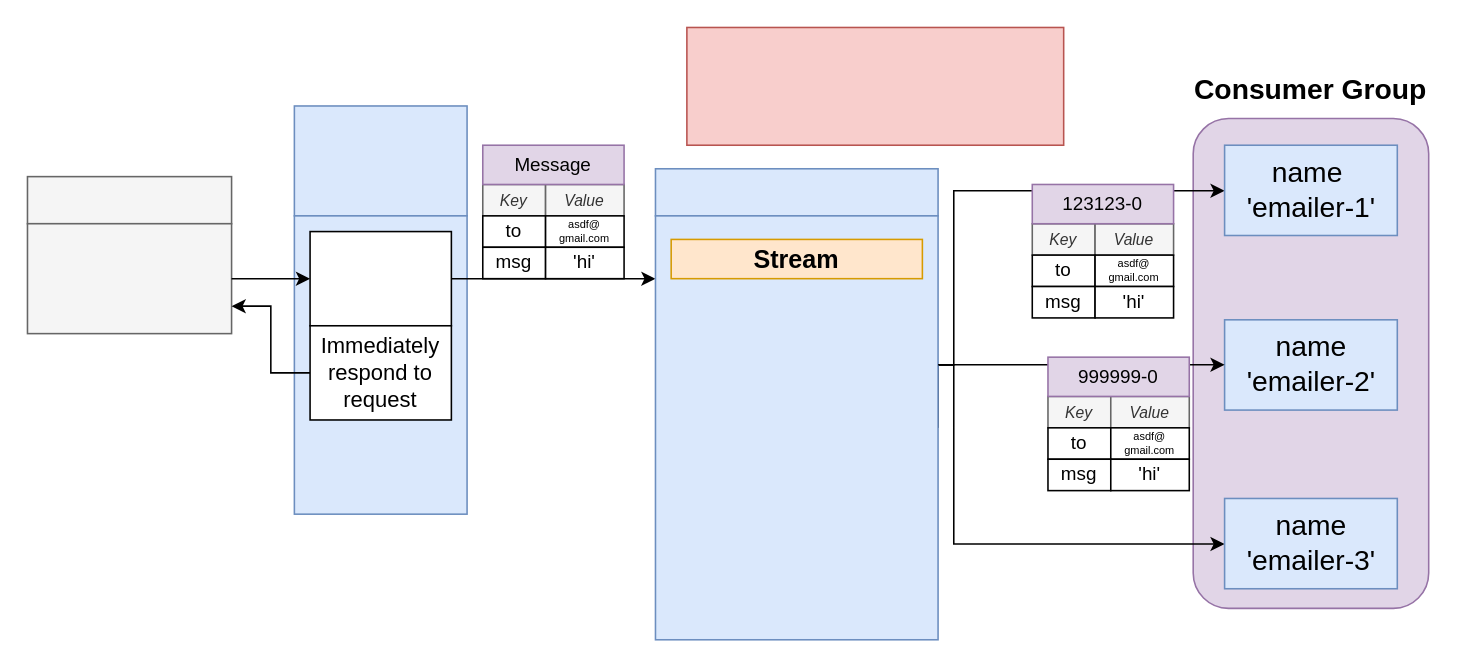
This 1476x667 diagram has some shape labels left out. Each missing label, with the centre of its shape:
"Each message is sent to only one member of a consumer group" goes at (x=874, y=85).
"Queue up a 'job'" goes at (x=380, y=278).
"Redis" goes at (x=796, y=191).
"Request" goes at (x=129, y=199).
"Send an email to 'asdf@gmail.com'" goes at (x=129, y=278).
"Server (Message Producer)" goes at (x=380, y=160).
